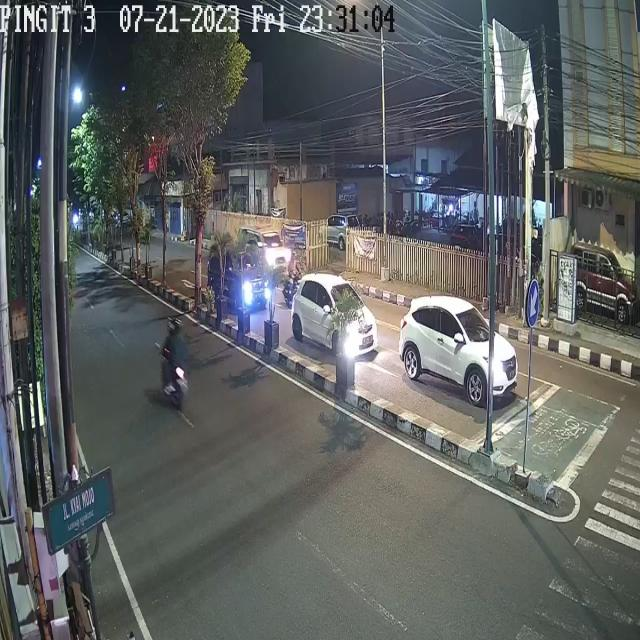car: (397, 296, 519, 412), (293, 268, 378, 362), (208, 240, 268, 310), (237, 218, 291, 274)
motorcycle: (158, 311, 186, 415), (285, 249, 304, 302)
